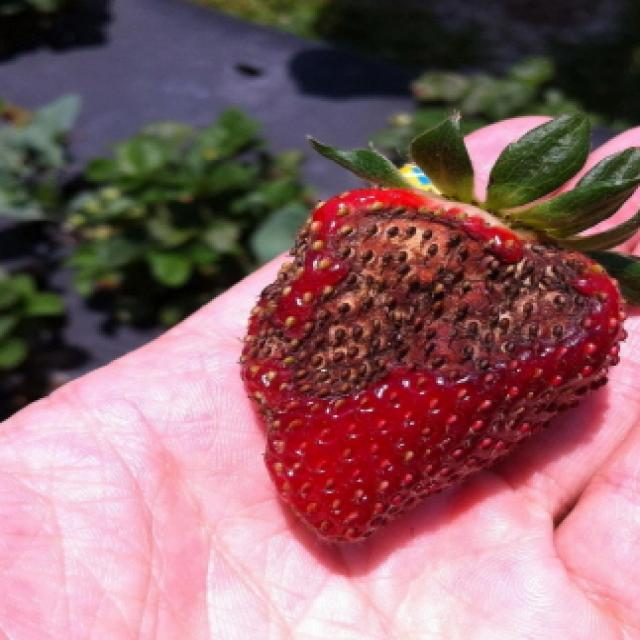Anthracnose Fruit Rot: (237, 186, 631, 445)
